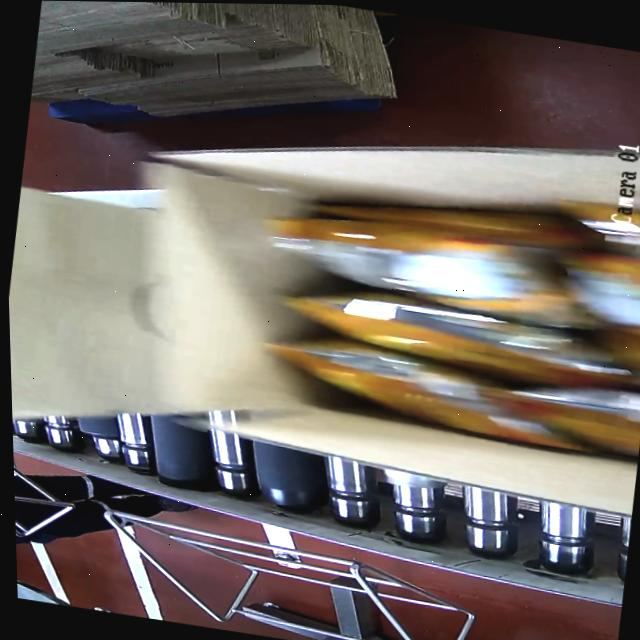FRENCH_CHEESE: (244, 125, 640, 475)
